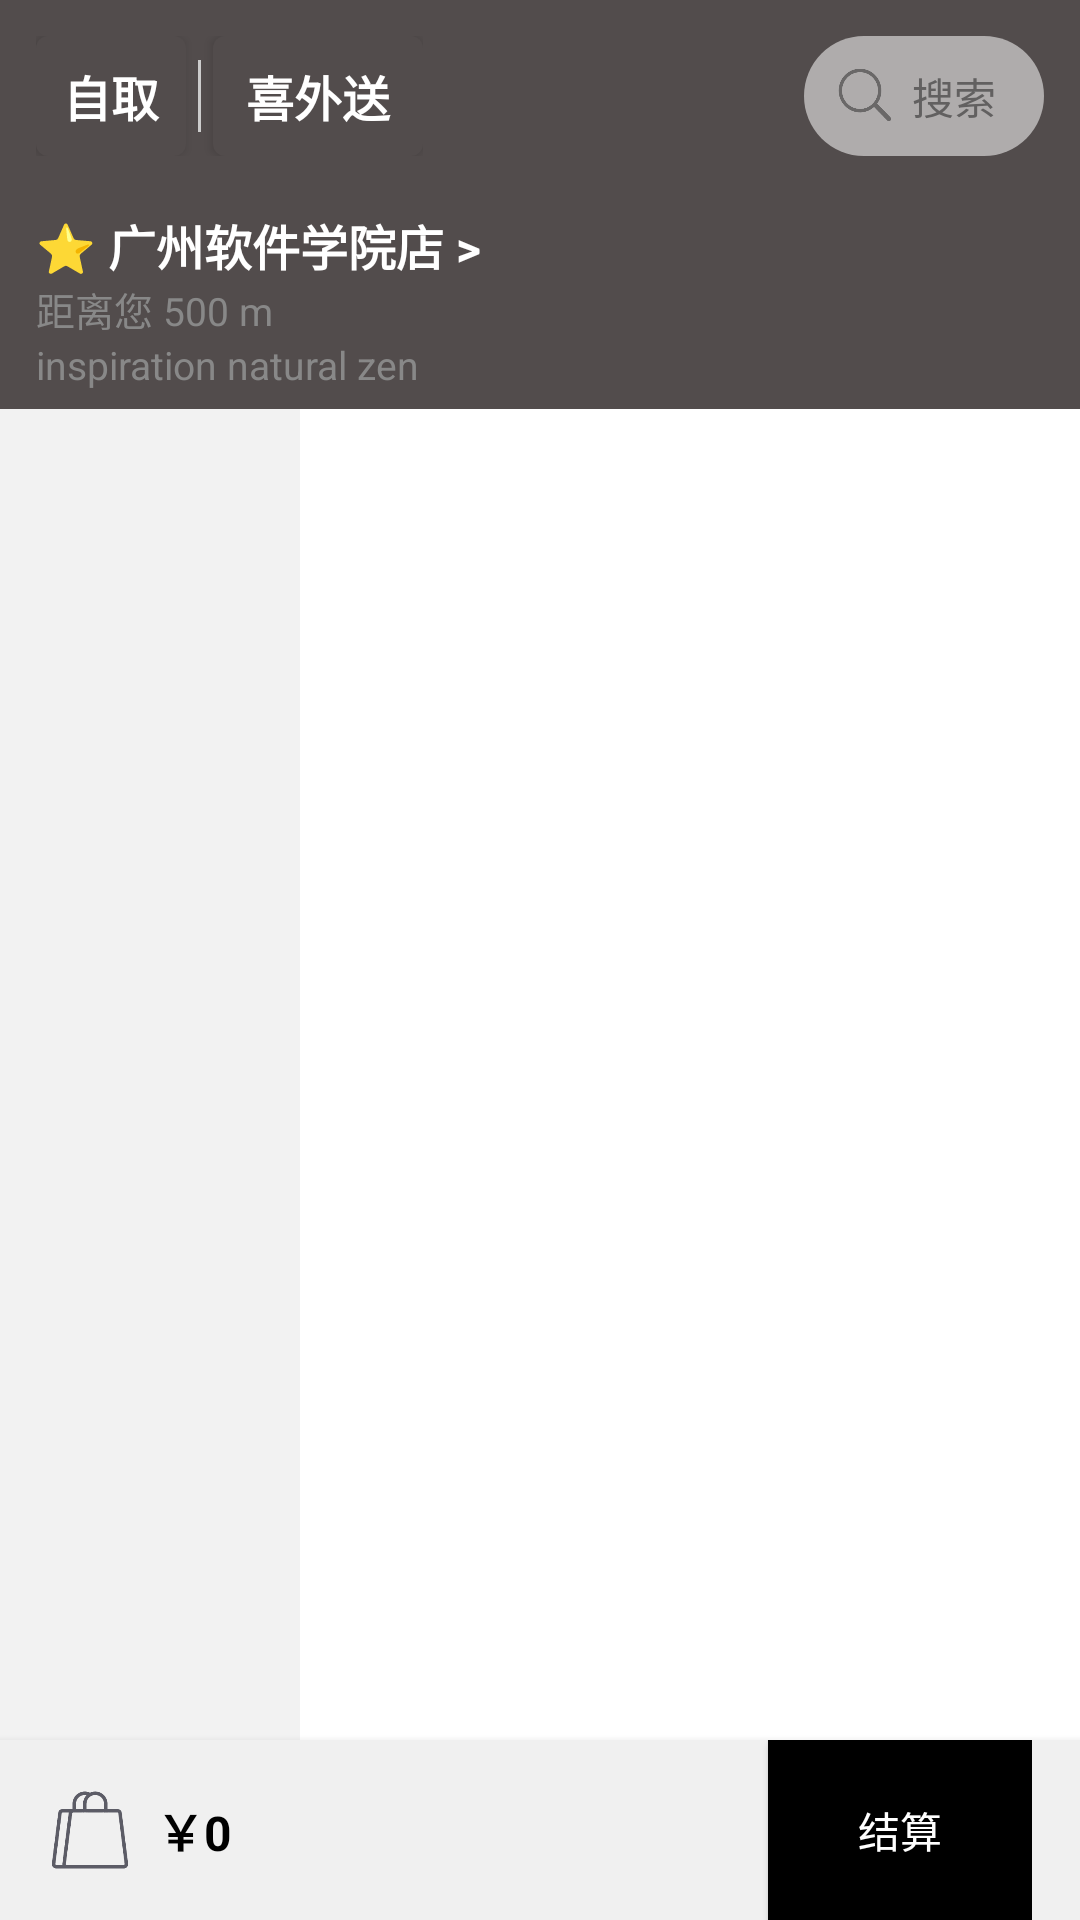

Icons on this 1080×1920 Android screen, each with its box as (x1, y1, x2, y2):
购物车: (52, 1791, 128, 1869)
